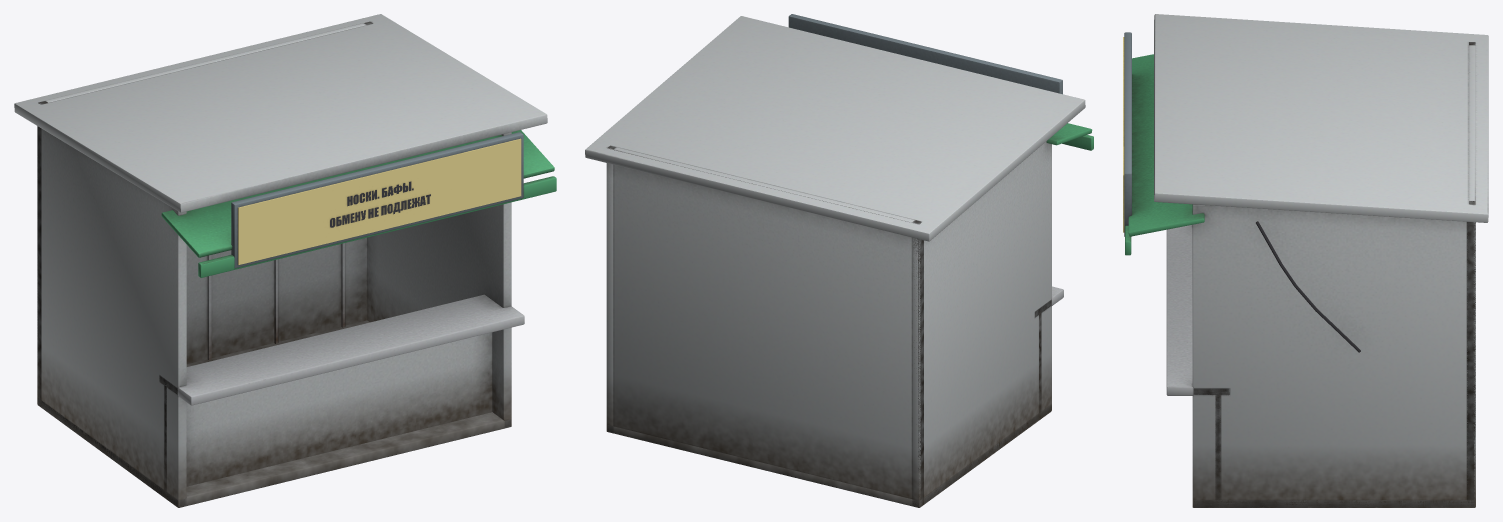
File: g67_pz_kiosk_socks.glb
The picture shows the model from 3 angles, left to right: view 1: azimuth 30°, elevation 25°; view 2: azimuth 150°, elevation 25°; view 3: azimuth 270°, elevation 25°; orthographic projection. The views are drawn at different scales.
Parts seen in each view (by area): view 1: g67_pz_kiosk_socks; view 2: g67_pz_kiosk_socks; view 3: g67_pz_kiosk_socks.
Part boxes in pixels (x1,y1,x2,y2): g67_pz_kiosk_socks: (14, 14, 556, 507); g67_pz_kiosk_socks: (585, 14, 1093, 507); g67_pz_kiosk_socks: (1123, 14, 1488, 507).
Size of the model in its own units: 3.36 by 2.78 by 2.84.
Materials: 1 (1 with a texture image).
